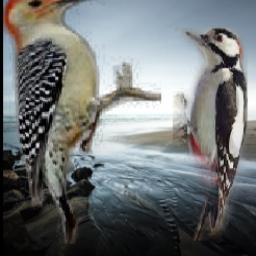Woodpecker: (3, 0, 161, 245), (173, 27, 248, 241)
